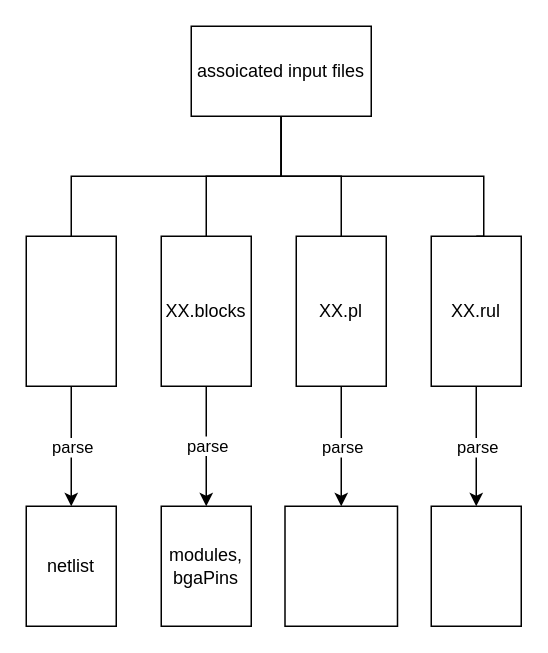
This 548x653 diagram has some shape labels left out. The centre of each missing label's shape, as x and y in pixels:
ruleType matrix: the point at 475,565
the coordinates of IC-pins: the point at 341,565
XX.nets: the point at 70,310
